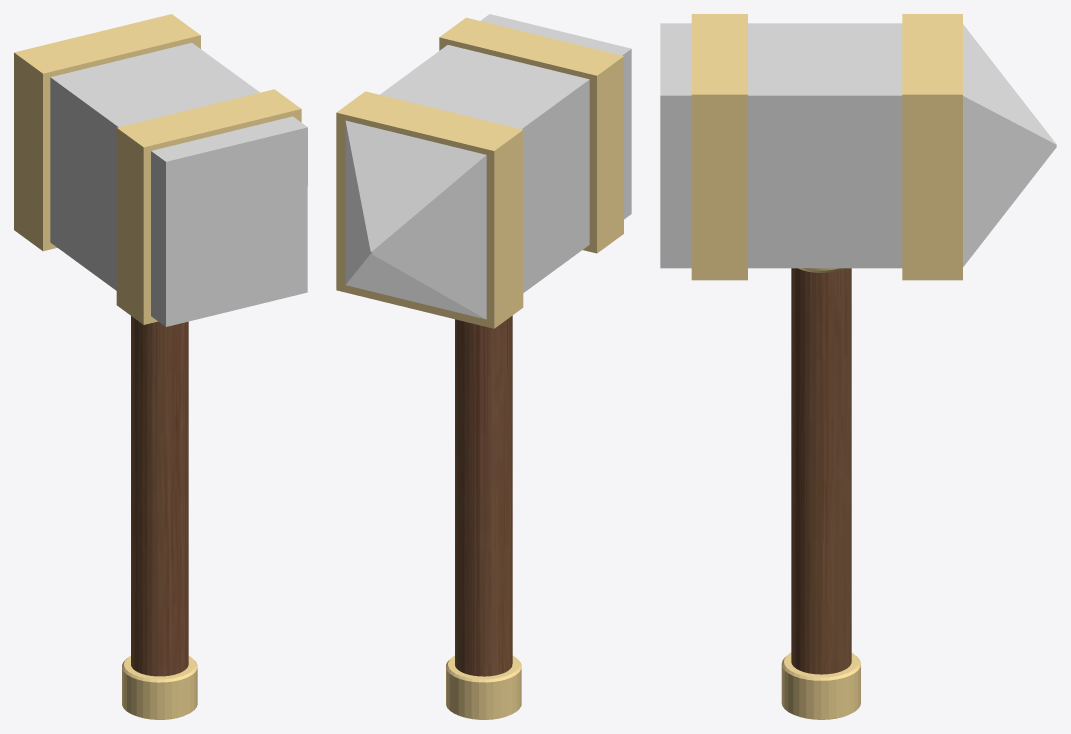
Rendered from hammer.fbx.
3 renders of one model, left to right at view 1: azimuth 30°, elevation 25°; view 2: azimuth 150°, elevation 25°; view 3: azimuth 270°, elevation 25°, orthographic. The views are drawn at different scales.
Parts seen in each view (by area): view 1: Cube, Cylinder, Cube.002, Cube.001, Cylinder.001; view 2: Cube, Cylinder, Cube.002, Cube.001, Cube.007, Cube.004, Cylinder.001, Cube.006, Cube.005; view 3: Cube, Cylinder, Cube.002, Cube.001, Cube.005, Cylinder.001, Cube.004.
Part boxes in pixels (x1=…): Cube: x1=50, y1=43, x2=307, y2=326; Cylinder: x1=131, y1=316, x2=188, y2=676; Cube.002: x1=14, y1=14, x2=200, y2=251; Cube.001: x1=116, y1=89, x2=301, y2=324; Cylinder.001: x1=122, y1=655, x2=197, y2=719; Cube: x1=370, y1=14, x2=631, y2=292; Cylinder: x1=455, y1=315, x2=512, y2=676; Cube.002: x1=336, y1=91, x2=523, y2=328; Cube.001: x1=439, y1=17, x2=623, y2=253; Cube.007: x1=371, y1=155, x2=486, y2=319; Cube.004: x1=345, y1=120, x2=485, y2=251; Cylinder.001: x1=446, y1=655, x2=521, y2=719; Cube.006: x1=346, y1=254, x2=485, y2=319; Cube.005: x1=345, y1=122, x2=370, y2=284; Cube: x1=660, y1=23, x2=902, y2=268; Cylinder: x1=791, y1=268, x2=851, y2=674; Cube.002: x1=902, y1=14, x2=962, y2=280; Cube.001: x1=691, y1=14, x2=747, y2=280; Cube.005: x1=963, y1=96, x2=1056, y2=266; Cylinder.001: x1=781, y1=652, x2=860, y2=719; Cube.004: x1=963, y1=24, x2=1056, y2=144.
Bounding box in the file's own units: 125 × 471 × 260.
Materials: 3 (1 with a texture image).
